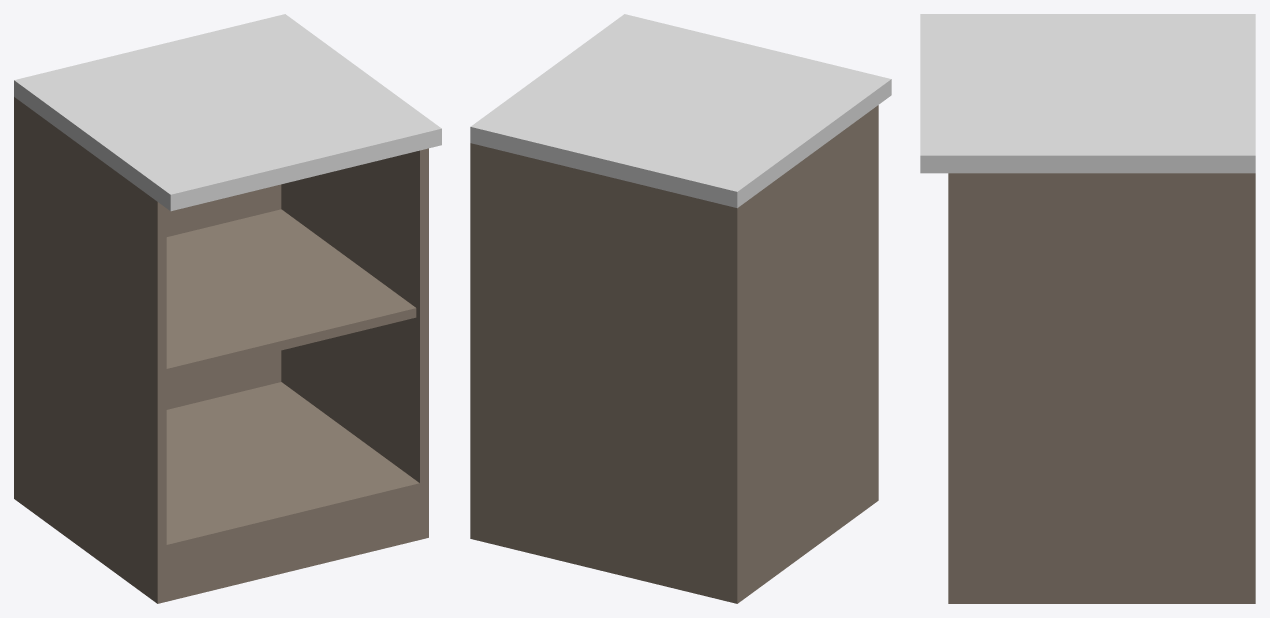
Rendered from Kitchen1_C5_02.fbx.
3 renders of one model, left to right at view 1: azimuth 30°, elevation 25°; view 2: azimuth 150°, elevation 25°; view 3: azimuth 270°, elevation 25°, orthographic. The views are drawn at different scales.
Visible parts, largest first — view 1: Kitchen1_C5_02; view 2: Kitchen1_C5_02; view 3: Kitchen1_C5_02.
Part boxes in pixels (box(x1,y1,x2,y2)): Kitchen1_C5_02: box(14, 14, 441, 603); Kitchen1_C5_02: box(470, 14, 891, 603); Kitchen1_C5_02: box(920, 14, 1255, 603).
Size of the model in its own units: 60 by 88.5 by 60.
